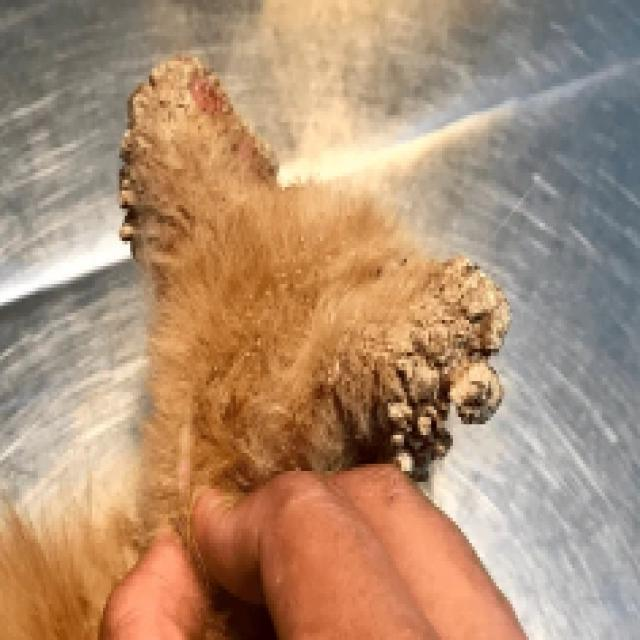Mange: (115, 53, 280, 270), (383, 253, 515, 483), (193, 72, 225, 116), (408, 355, 440, 398), (463, 358, 491, 404)
